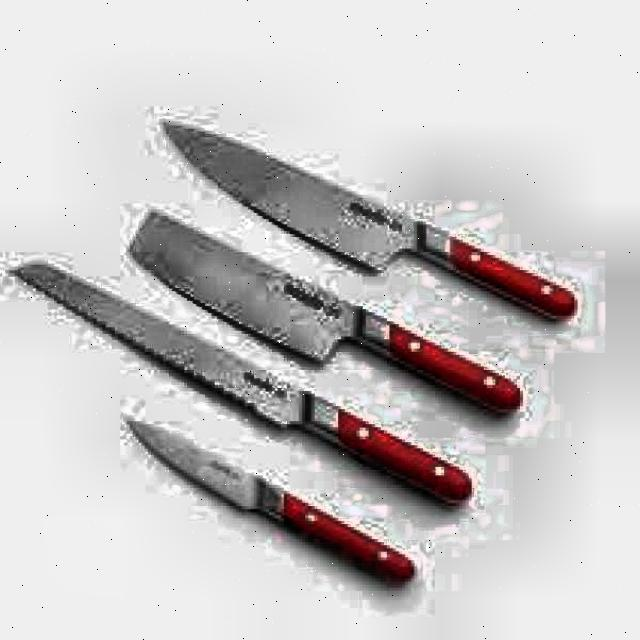knife: (3, 257, 486, 515), (157, 111, 586, 348), (122, 201, 540, 424), (112, 413, 425, 598)
